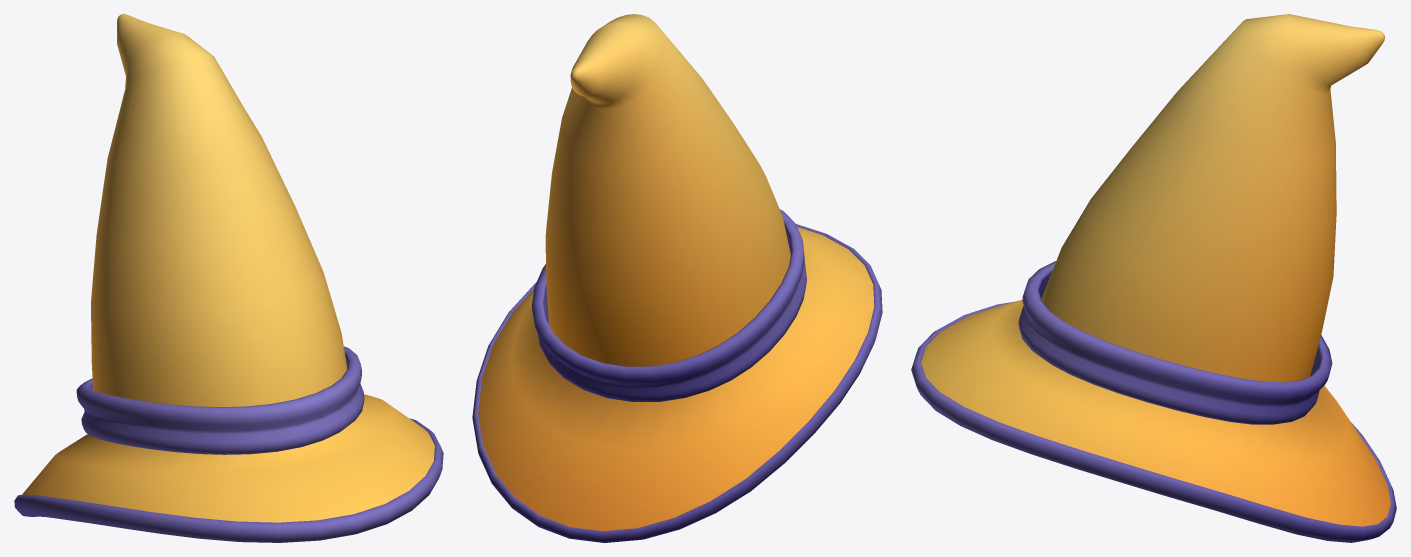
File: hat_01.glb
3 renders of one model, left to right at view 1: azimuth 30°, elevation 25°; view 2: azimuth 150°, elevation 25°; view 3: azimuth 270°, elevation 25°, orthographic. The views are drawn at different scales.
Visible parts, largest first — view 1: Hat850; view 2: Hat850; view 3: Hat850.
Part boxes in pixels (x1,y1,x2,y2): Hat850: (14,14,443,542); Hat850: (472,14,882,542); Hat850: (911,14,1396,542).
Size of the model in its own units: 0.495 by 0.6819 by 0.5994.
Materials: 1 (1 with a texture image).
